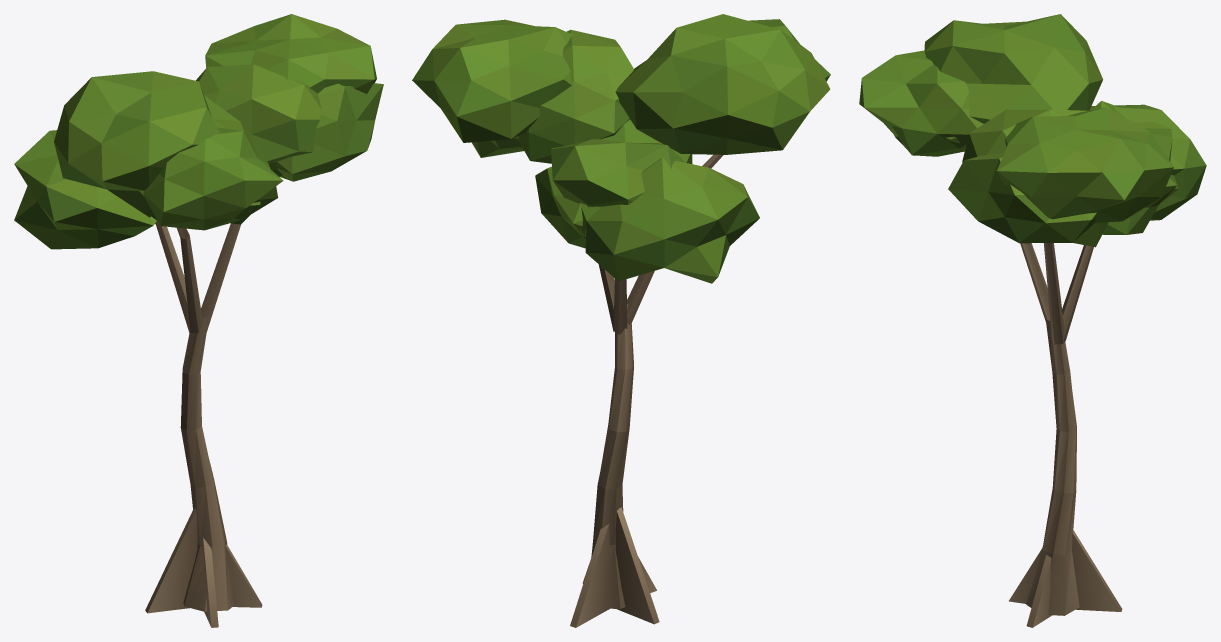
The model's file is canopy_b.glb.
3 renders of one model, left to right at view 1: azimuth 30°, elevation 25°; view 2: azimuth 150°, elevation 25°; view 3: azimuth 270°, elevation 25°, orthographic. The views are drawn at different scales.
Parts seen in each view (by area): view 1: canopy_b_leafy, canopy_b_solid; view 2: canopy_b_leafy, canopy_b_solid; view 3: canopy_b_leafy, canopy_b_solid.
Part boxes in pixels (<box>): canopy_b_leafy: <box>14,14,383,249</box>; canopy_b_solid: <box>145,221,262,627</box>; canopy_b_leafy: <box>412,14,830,283</box>; canopy_b_solid: <box>570,154,723,627</box>; canopy_b_leafy: <box>859,14,1206,247</box>; canopy_b_solid: <box>1009,243,1122,627</box>.
Size of the model in its own units: 7.1 by 11.47 by 6.69.
